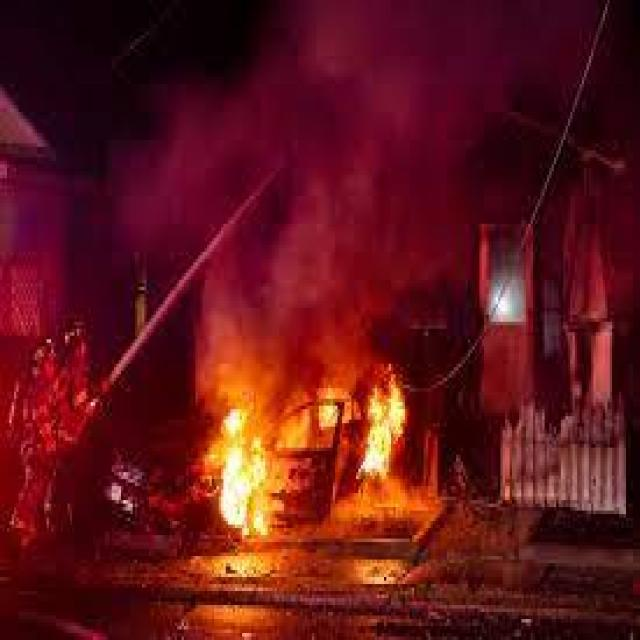Fire: (217, 405, 280, 555), (356, 367, 414, 503)
Smoke: (123, 0, 640, 332)
